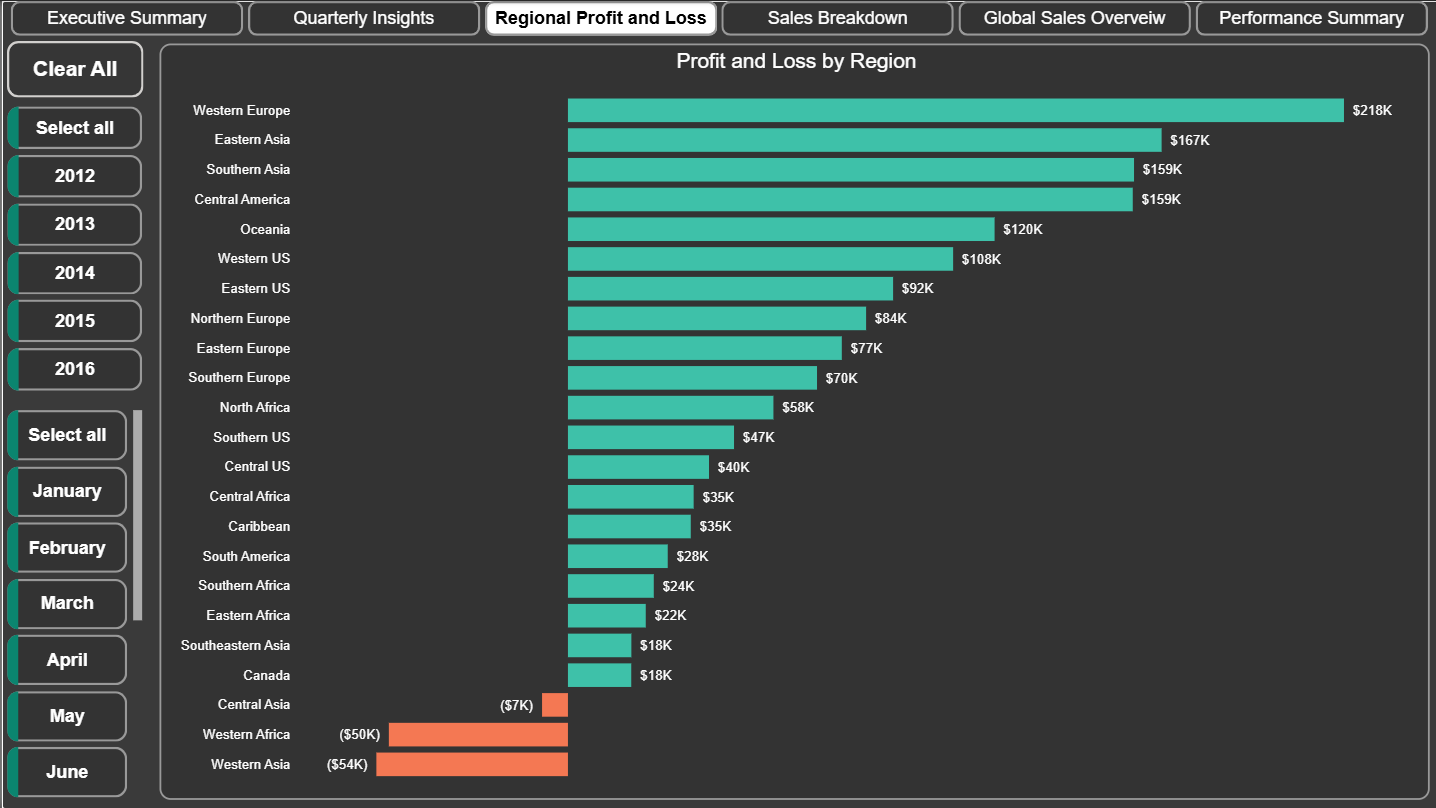

What the dashboard file says about the page in this screenshot:
{"tool":"powerbi","page":{"name":"Regional Profit and Loss","canvas":[1280,720],"ordinal":2},"visuals":[{"type":"pageNavigator","box":[8.1,0,1263.8,31.9],"z":1000},{"type":"actionButton","box":[4.9,35.6,121.5,50.3],"z":2000},{"type":"advancedSlicerVisual","fields":{"Values":["Dim_Date.Year"]},"box":[0,89.6,130.1,263.8],"z":3000},{"type":"advancedSlicerVisual","fields":{"Values":["Dim_Date.Date.Variation.Date Hierarchy.Month"]},"box":[0,359.5,130.1,357.1],"z":4000},{"type":"clusteredBarChart","fields":{"Category":["Dim_Customers.Region","Dim_Customers.Country"],"Y":["_Measures.Profit and Loss"]},"box":[139.9,38,1131.3,673.6],"z":4500}]}

Visuals, with their boxes in screenshot pixels (x1, y1, x2, y2), scaled from the page's 1280x720 canvas onto the 1436x808 screenshot:
pageNavigator: box=[9, 0, 1427, 36]
actionButton: box=[5, 40, 142, 96]
advancedSlicerVisual - Dim_Date.Year: box=[0, 101, 146, 397]
advancedSlicerVisual - Dim_Date.Date.Variation.Date Hierarchy.Month: box=[0, 403, 146, 804]
clusteredBarChart - Dim_Customers.Region x Dim_Customers.Country: box=[157, 43, 1426, 799]
